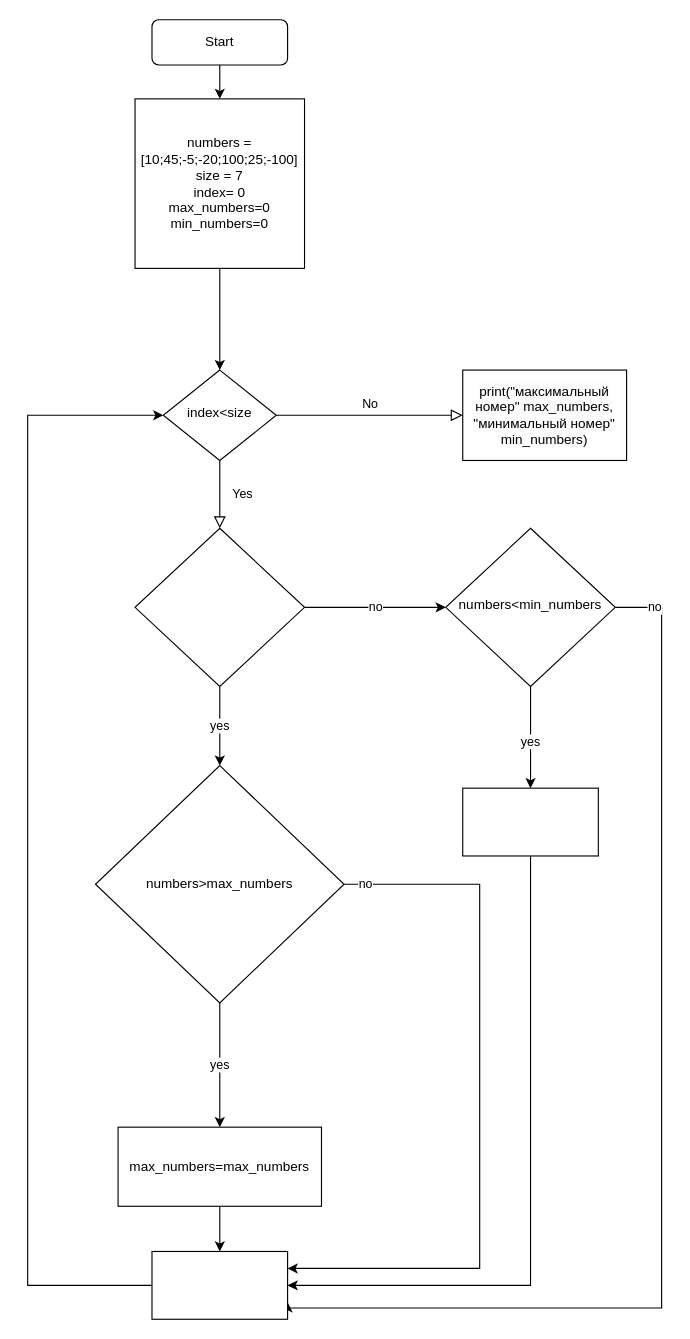
Image size: 690x1339. Some labels were removed from this diagram. The centre of each missing label's shape, as x and y in pixels:
index=index++: [219,1284]
min_numbers= min_numbers: [530,821]
numbers[index]>0: [219,606]
